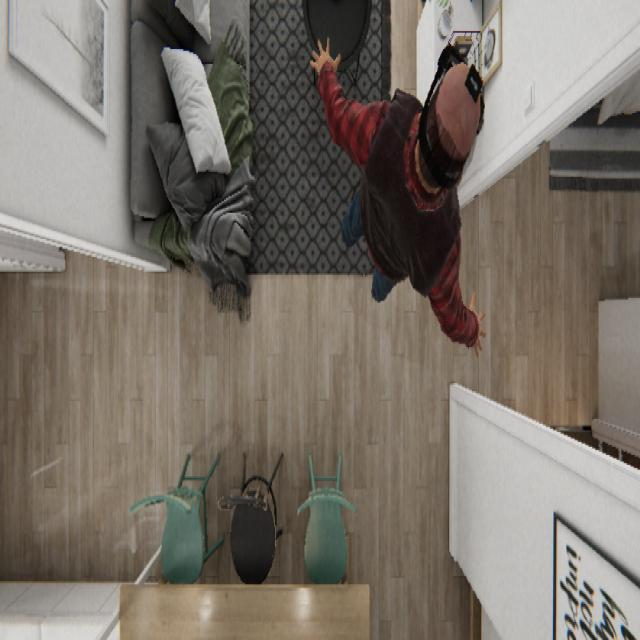Human: (309, 33, 487, 357)
UnityLogo: (463, 62, 482, 103)
